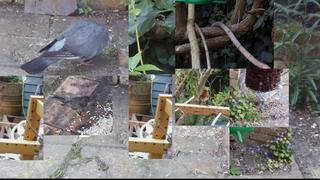blackbird: (51, 96, 93, 118)
robin: (198, 89, 210, 106)
wood pigeon: (20, 20, 109, 75)
